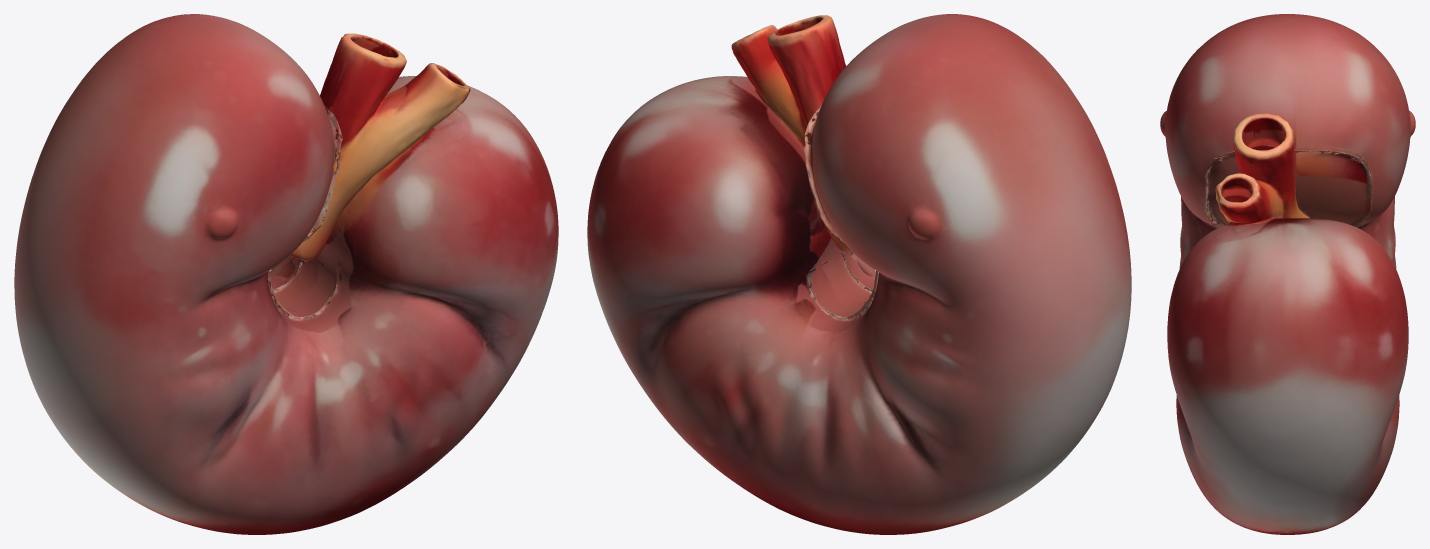
The model's file is vet_v2_path_gdv.glb.
The picture shows the model from 3 angles, left to right: view 1: azimuth 30°, elevation 25°; view 2: azimuth 150°, elevation 25°; view 3: azimuth 270°, elevation 25°; orthographic projection. The views are drawn at different scales.
Visible parts, largest first — view 1: model; view 2: model; view 3: model.
Part boxes in pixels (left/top/right/bottom): model: left=14, top=14, right=558, bottom=534; model: left=587, top=14, right=1131, bottom=534; model: left=1160, top=14, right=1415, bottom=534.
Size of the model in its own units: 1.9 by 1.84 by 0.9393.
1 material, 1 textured.
